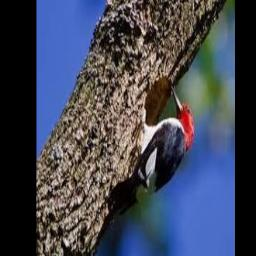Woodpecker: (108, 86, 194, 225)
